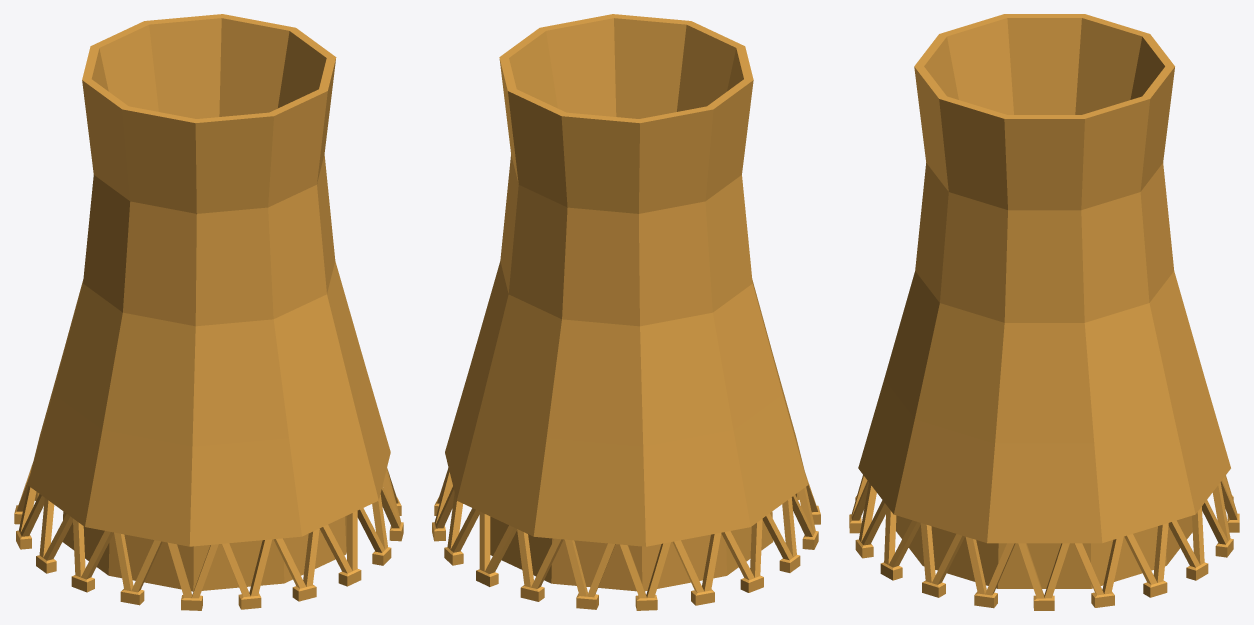
Rendered from cooling-tower.glb.
3 views of the same model, side by side, from view 1: azimuth 30°, elevation 25°; view 2: azimuth 150°, elevation 25°; view 3: azimuth 270°, elevation 25° (orthographic).
Visible parts, largest first — view 1: cooling-tower; view 2: cooling-tower; view 3: cooling-tower.
Boxes of the visible parts, x1,y1,x2,y2 form: cooling-tower: [14, 14, 403, 610]; cooling-tower: [432, 14, 820, 610]; cooling-tower: [849, 14, 1239, 610].
Size of the model in its own units: 26.17 by 34.16 by 26.17.
